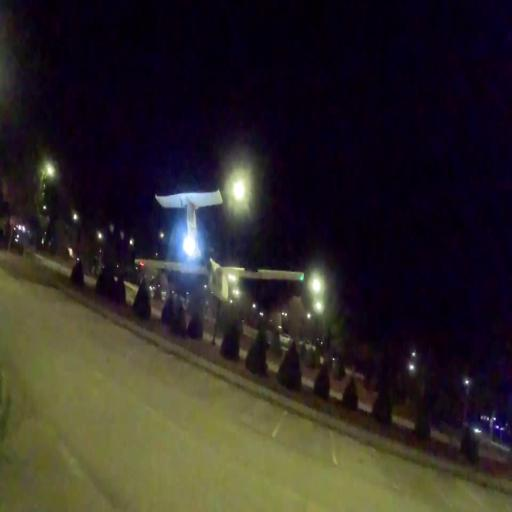uav: (132, 186, 310, 307)
